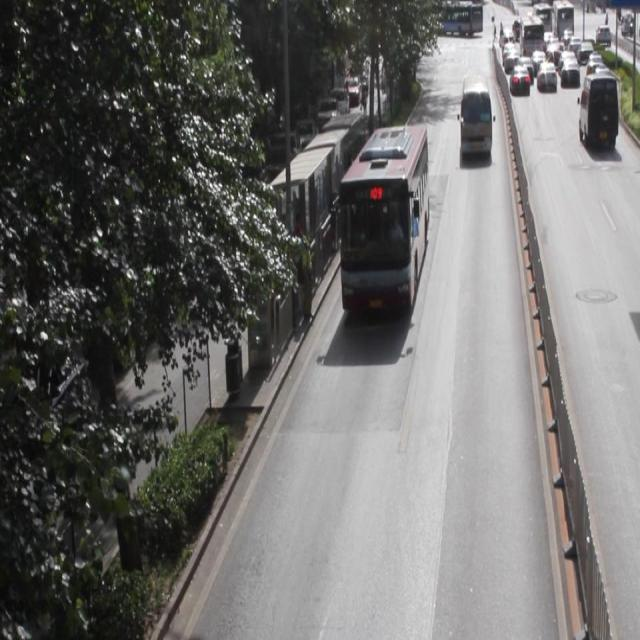truck: (577, 73, 616, 149), (459, 75, 491, 155)
van: (341, 124, 426, 311)
